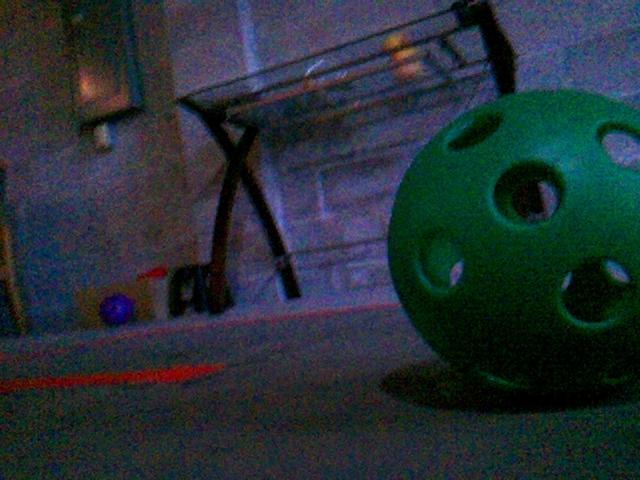Green: (383, 92, 640, 399)
Purple: (97, 292, 137, 328)
